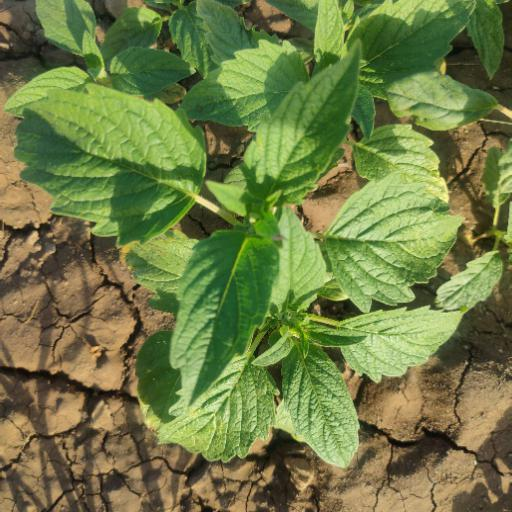crop: (21, 1, 511, 466)
